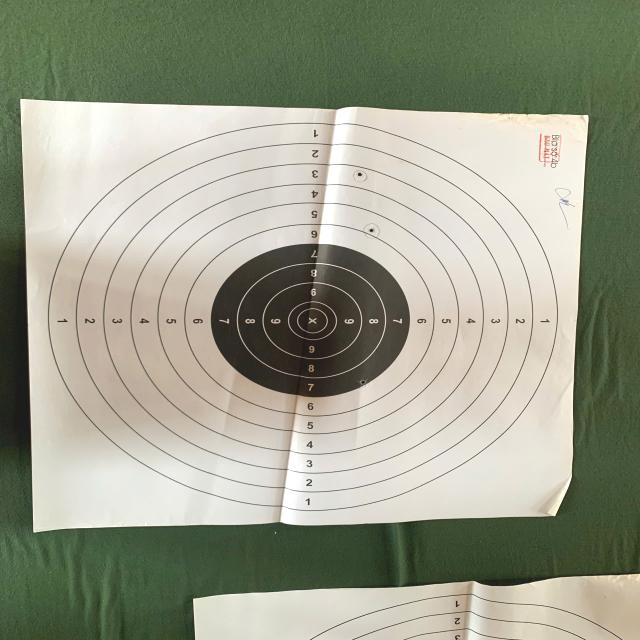bullet: (358, 380, 366, 386), (355, 172, 363, 176), (368, 228, 374, 233)
target: (22, 100, 587, 529)
